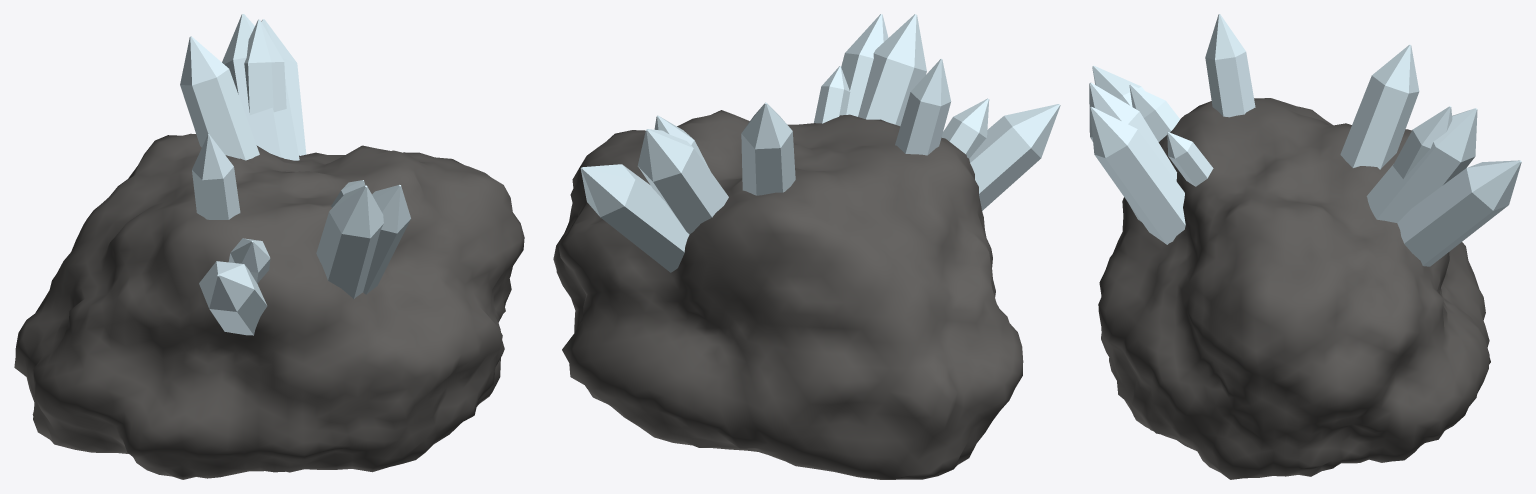
Rendered from diamond_deep.glb.
The picture shows the model from 3 angles, left to right: view 1: azimuth 30°, elevation 25°; view 2: azimuth 150°, elevation 25°; view 3: azimuth 270°, elevation 25°; orthographic projection. The views are drawn at different scales.
Parts seen in each view (by area): view 1: diamond_deep; view 2: diamond_deep; view 3: diamond_deep.
Part boxes in pixels (x1,y1,x2,y2): diamond_deep: (14,14,524,479); diamond_deep: (553,14,1060,479); diamond_deep: (1089,14,1521,479).
Bounding box in the file's own units: 2.25 × 1.63 × 1.9.
